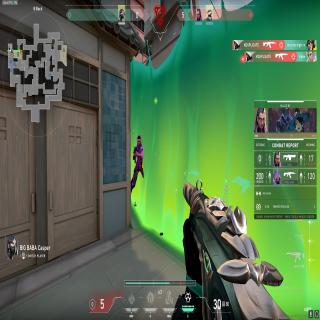ENEMY-HEAD: (137, 134, 141, 146)
